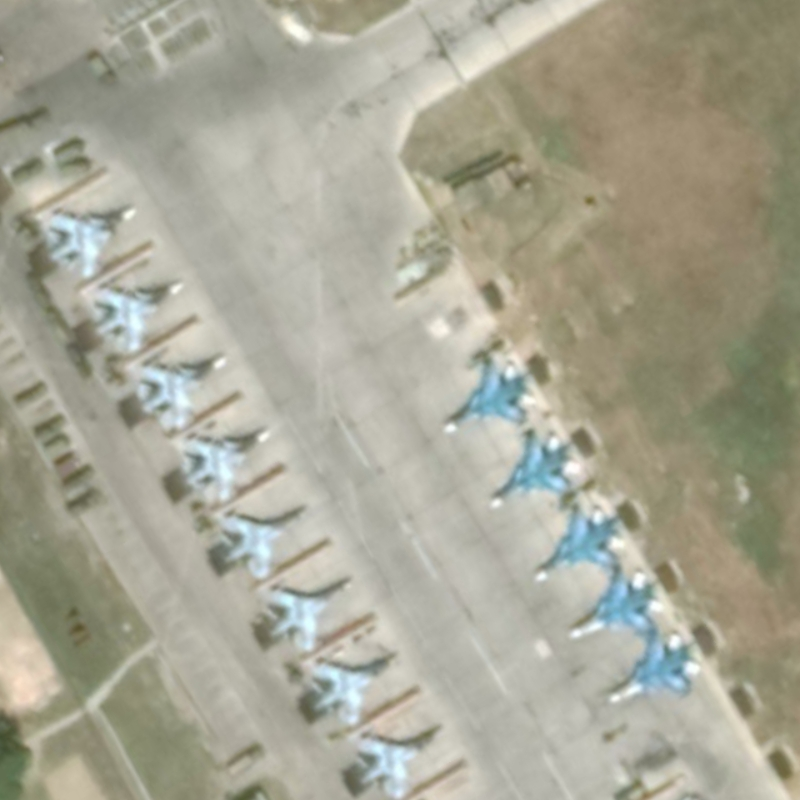A1: (350, 724, 449, 800), (214, 505, 310, 582), (308, 649, 401, 728), (264, 576, 356, 653)
A19: (487, 426, 584, 514), (529, 500, 629, 584), (438, 355, 539, 436), (563, 569, 669, 643), (604, 629, 705, 705), (176, 425, 273, 504), (135, 354, 227, 433), (45, 203, 138, 280), (92, 279, 184, 355)
